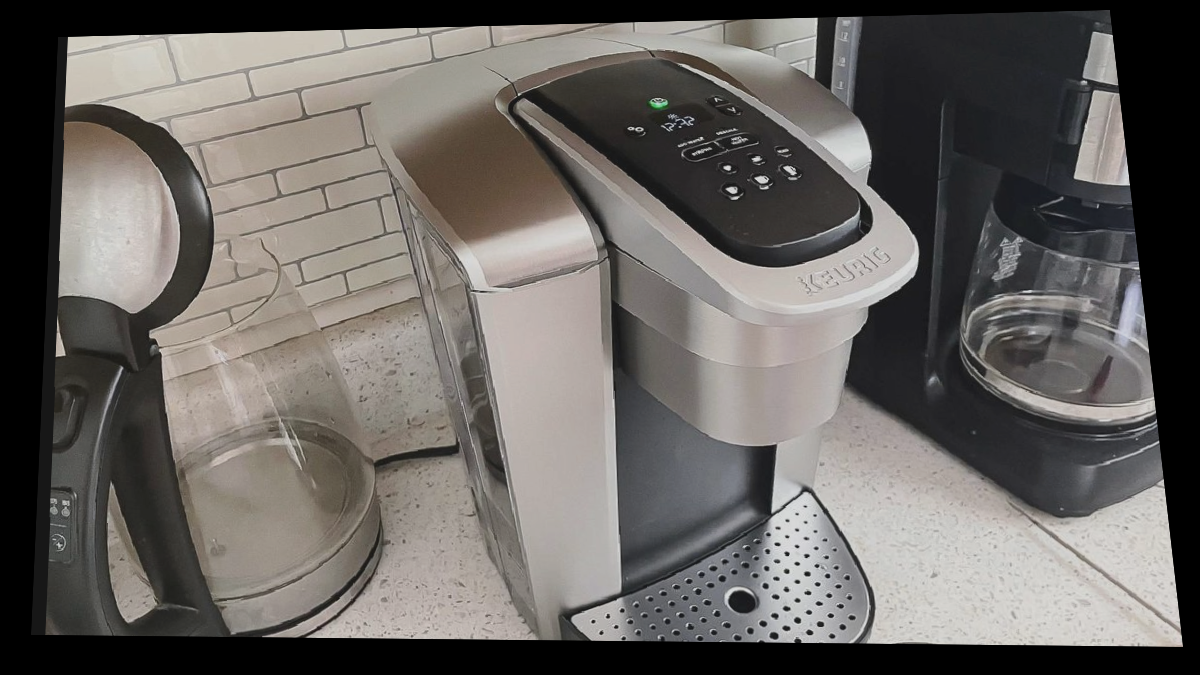10oz: (750, 170, 776, 191)
12oz: (777, 161, 804, 183)
4oz: (717, 160, 738, 175)
6oz: (747, 151, 768, 167)
8oz: (719, 180, 745, 201)
add_water: (674, 126, 714, 152)
coffee_handle: (819, 261, 926, 327)
descale: (710, 112, 751, 138)
hot: (717, 124, 759, 153)
iced: (773, 142, 794, 158)
platform: (717, 576, 766, 624)
power: (648, 96, 670, 110)
strong: (680, 138, 722, 167)
water_handle: (470, 250, 608, 307)
